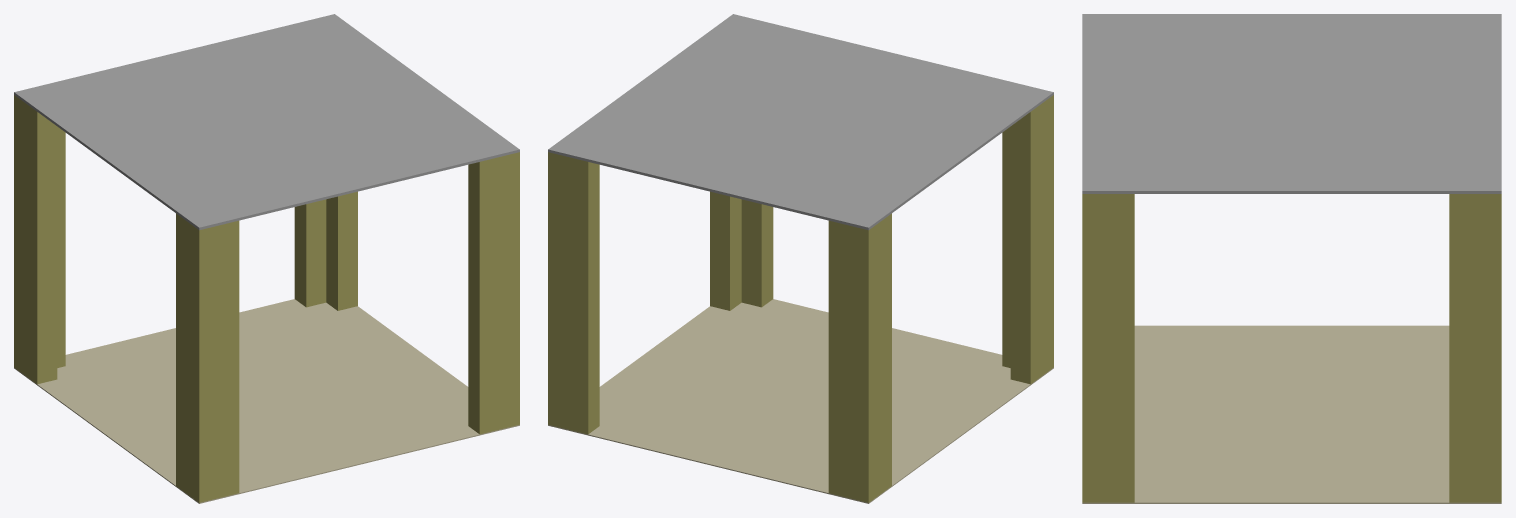
File: tile2.gltf
3 renders of one model, left to right at view 1: azimuth 30°, elevation 25°; view 2: azimuth 150°, elevation 25°; view 3: azimuth 270°, elevation 25°, orthographic. The views are drawn at different scales.
Parts seen in each view (by area): view 1: cube (×9); view 2: cube (×10); view 3: cube (×5).
Part boxes in pixels (x1=…): cube (×9): x1=14, y1=14, x2=519, y2=503; cube (×10): x1=548, y1=14, x2=1053, y2=503; cube (×5): x1=1082, y1=14, x2=1501, y2=503.
Size of the model in its own units: 1 by 0.8234 by 1.
Materials: 1 (1 with a texture image).
